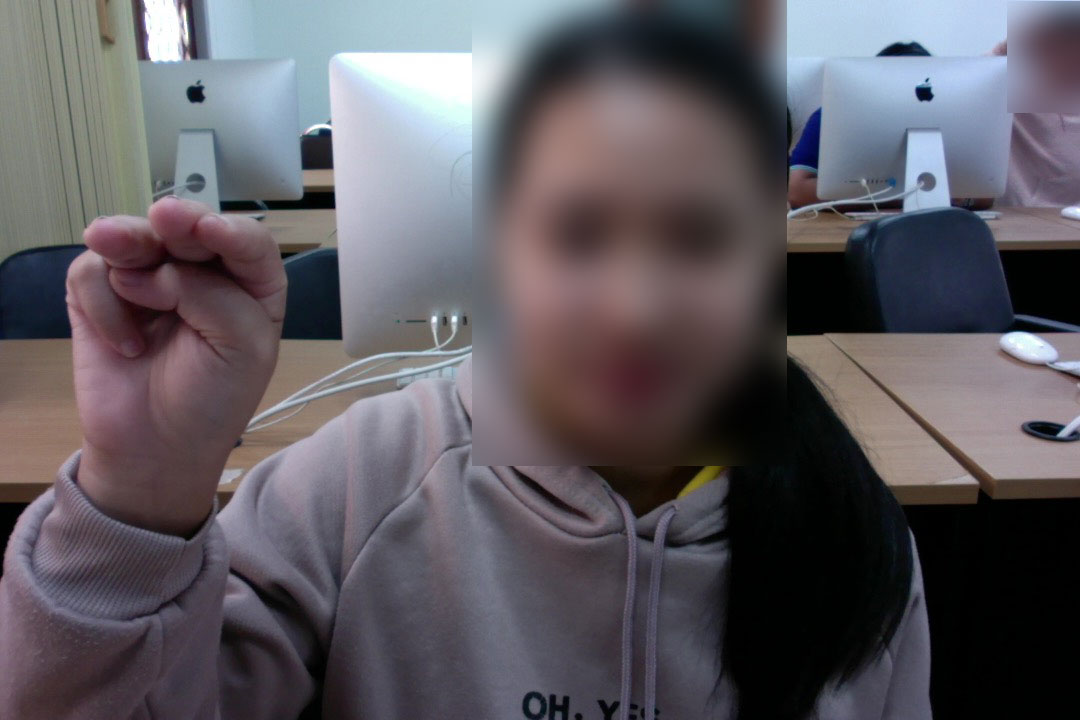mor: (57, 173, 292, 487)
